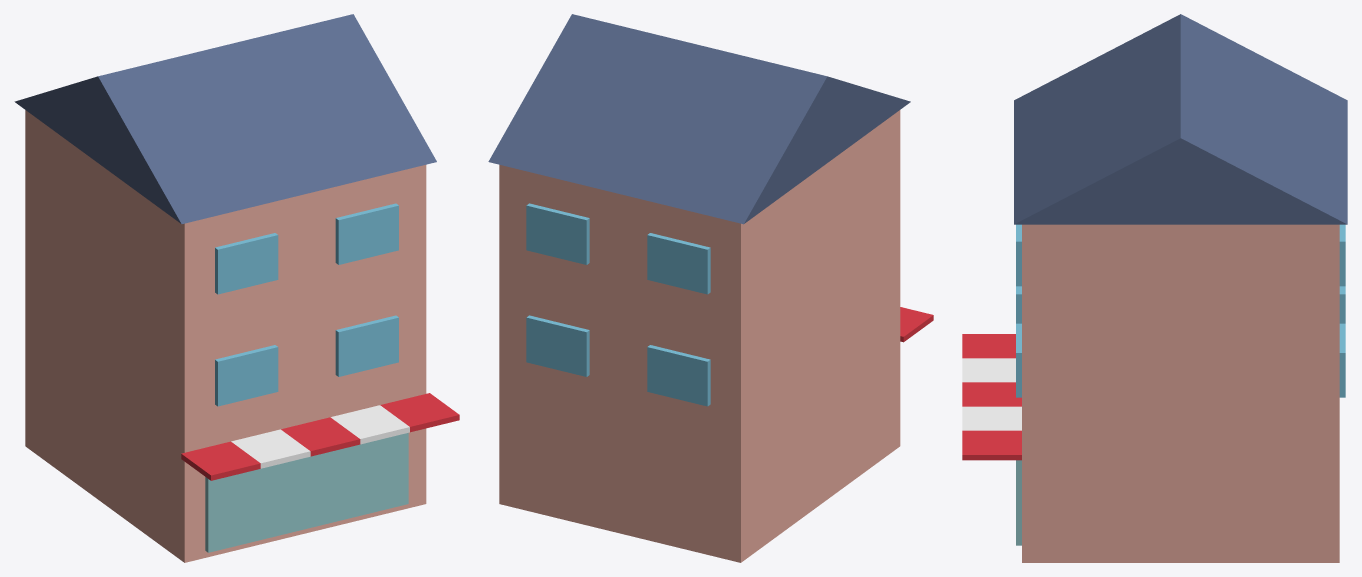
The model's file is shop_3.glb.
3 views of the same model, side by side, from view 1: azimuth 30°, elevation 25°; view 2: azimuth 150°, elevation 25°; view 3: azimuth 270°, elevation 25° (orthographic).
Visible parts, largest first — view 1: shop_3_wall_pink, shop_3_roof_slate, shop_3_glass, shop_3_window, shop_3_red, shop_3_white; view 2: shop_3_wall_pink, shop_3_roof_slate, shop_3_window, shop_3_red; view 3: shop_3_wall_pink, shop_3_roof_slate, shop_3_red, shop_3_white, shop_3_window, shop_3_glass.
Boxes of the visible parts, box(x1,y1,x2,y2) form: shop_3_wall_pink: box(25, 110, 426, 562); shop_3_roof_slate: box(14, 14, 436, 223); shop_3_glass: box(205, 433, 408, 552); shop_3_window: box(215, 203, 398, 406); shop_3_red: box(181, 393, 459, 480); shop_3_white: box(231, 405, 409, 468); shop_3_wall_pink: box(499, 110, 900, 562); shop_3_roof_slate: box(488, 14, 910, 224); shop_3_window: box(526, 203, 710, 406); shop_3_red: box(900, 307, 933, 342); shop_3_wall_pink: box(1022, 224, 1339, 562); shop_3_roof_slate: box(1014, 14, 1347, 224); shop_3_red: box(962, 334, 1021, 460); shop_3_white: box(962, 358, 1021, 430); shop_3_window: box(1016, 224, 1345, 397); shop_3_glass: box(1016, 460, 1021, 545).
Bounding box in the file's own units: 7.4 × 11.9 × 9.7.
